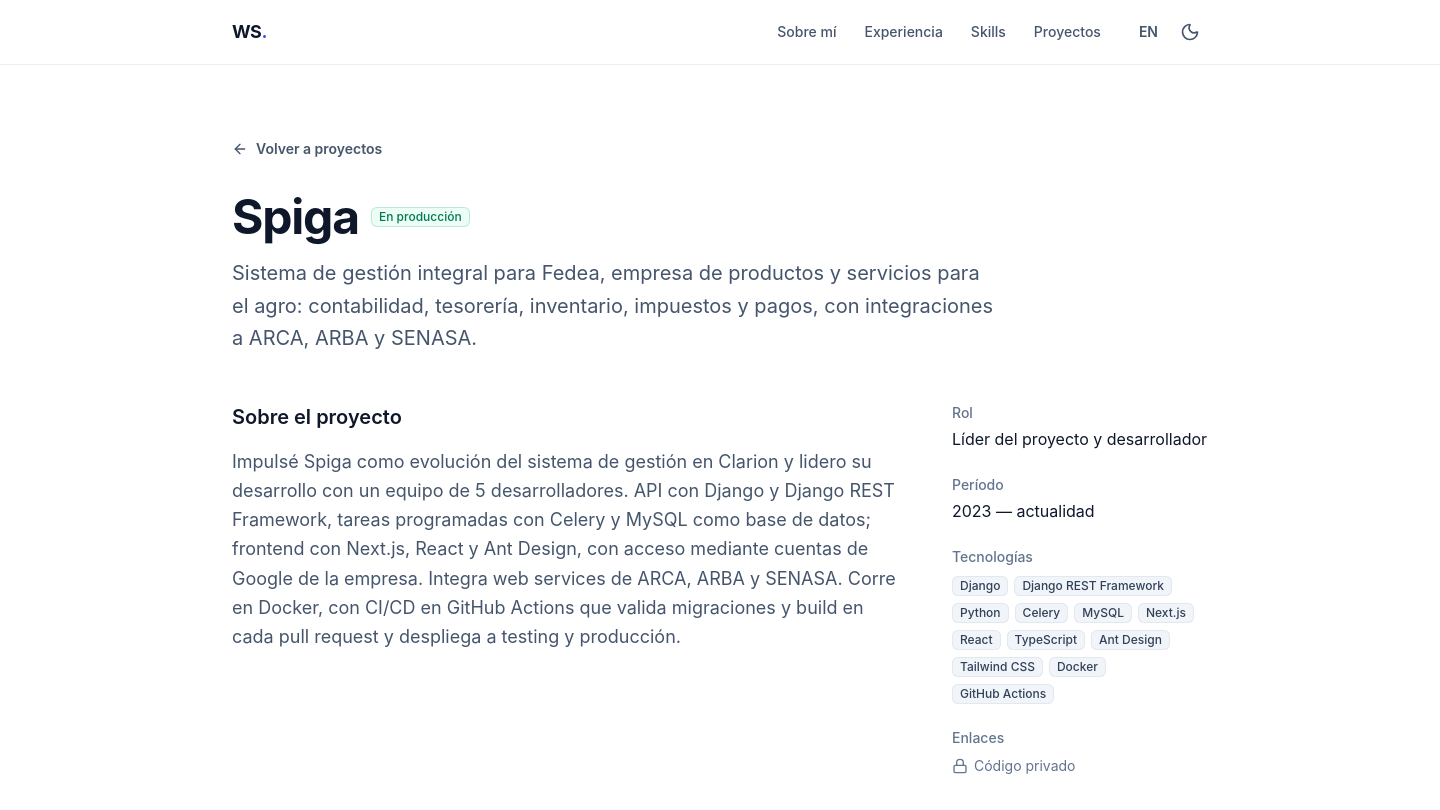
Test: Navegación entre rutas › un link de la navbar desde el detalle vuelve a Home y lleva a la sección
The width and height of the screenshot is (1440, 810).
Check: the heading "Spiga" is shown, box [232,193,359,241]
Click the link "Skills": (988, 32) [971,23,1006,40]
(page scrolled)
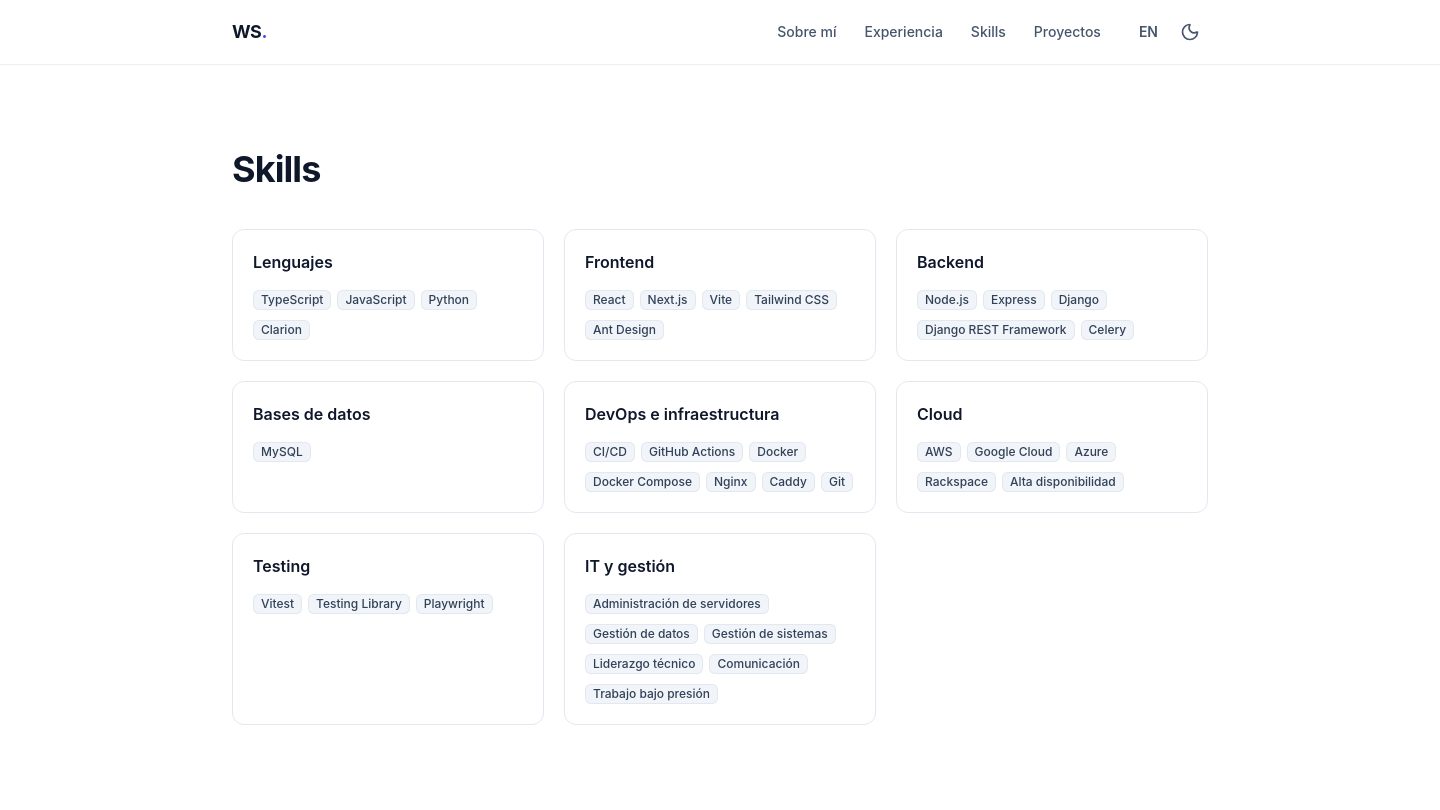
Check: the element with id "skills" is shown, box [232,147,1208,725]
